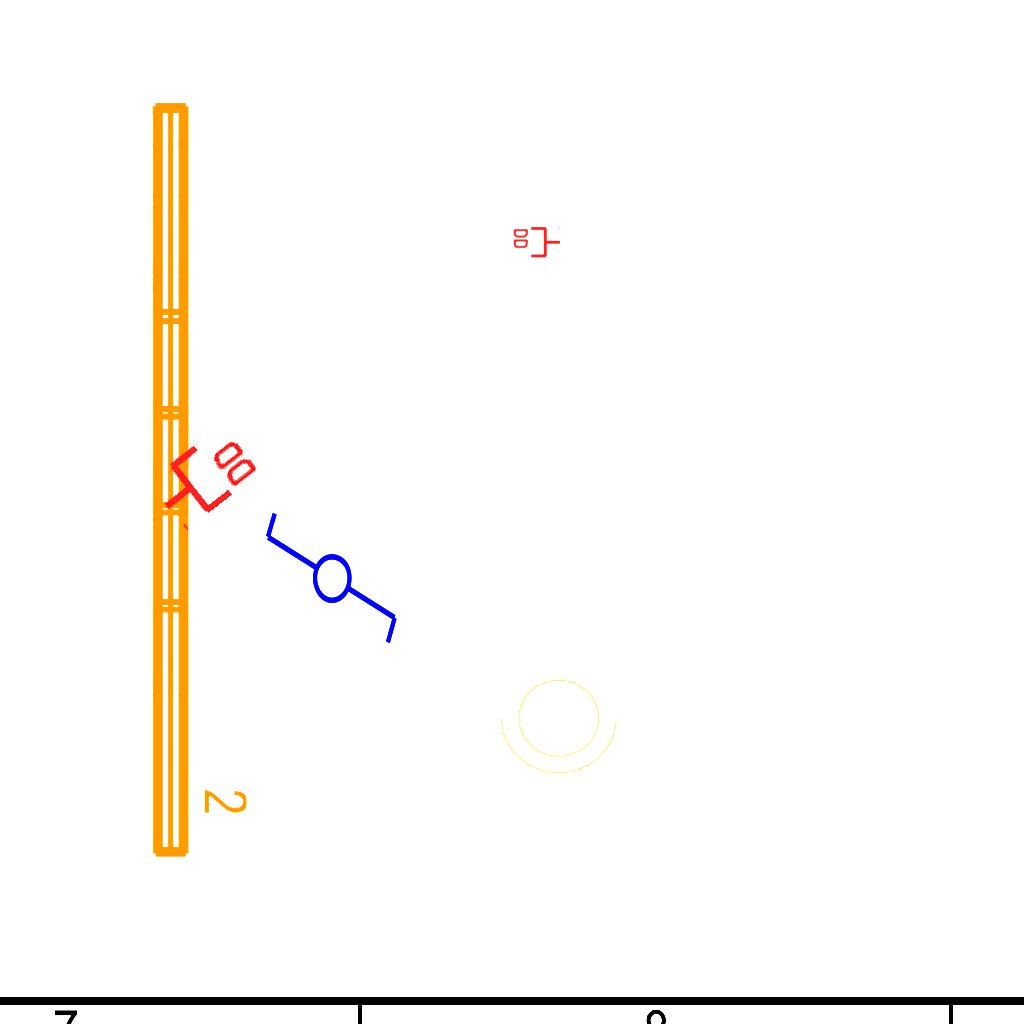Ambulanz_Pendelleuchte_LED: (140, 92, 252, 866)
Datenanschluss_zweifach: (141, 416, 266, 535), (511, 226, 562, 260)
Scheinwerfer_fuer_Alarmbeleuchtung: (496, 667, 628, 779)
Wechselschalter: (258, 508, 402, 665)
